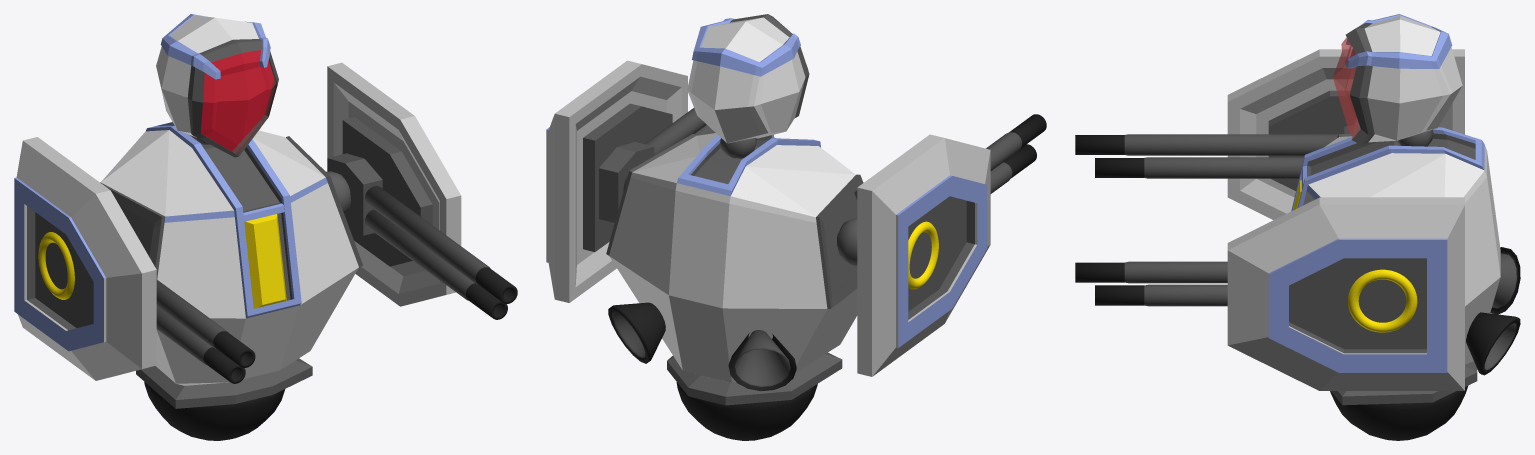
File: MoveTarget.fbx
3 views of the same model, side by side, from view 1: azimuth 30°, elevation 25°; view 2: azimuth 150°, elevation 25°; view 3: azimuth 270°, elevation 25° (orthographic).
Visible parts, largest first — view 1: Body, R_Hand, LHand, Head; view 2: Body, R_Hand, LHand, Head; view 3: LHand, Body, R_Hand, Head.
Part boxes in pixels (x1,y1,x2,y2): Body: [100, 122, 363, 440]; R_Hand: [14, 137, 255, 383]; LHand: [327, 62, 517, 319]; Head: [156, 14, 278, 157]; Body: [606, 133, 863, 440]; R_Hand: [857, 114, 1046, 376]; LHand: [546, 60, 715, 302]; Head: [687, 14, 809, 143]; LHand: [1075, 197, 1464, 390]; Body: [1291, 127, 1520, 440]; R_Hand: [1075, 49, 1464, 219]; Head: [1333, 14, 1462, 144].
Bounding box in the file's own units: 1.03 × 1.16 × 1.13.
